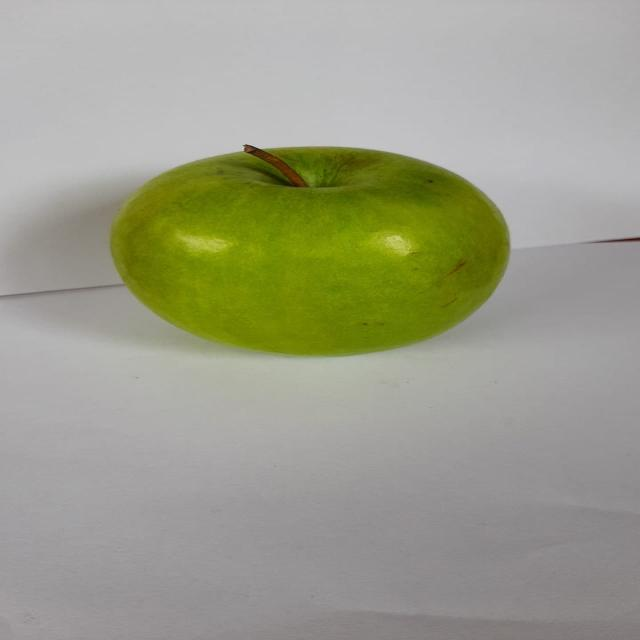50-_ripeness: (100, 138, 518, 368)
